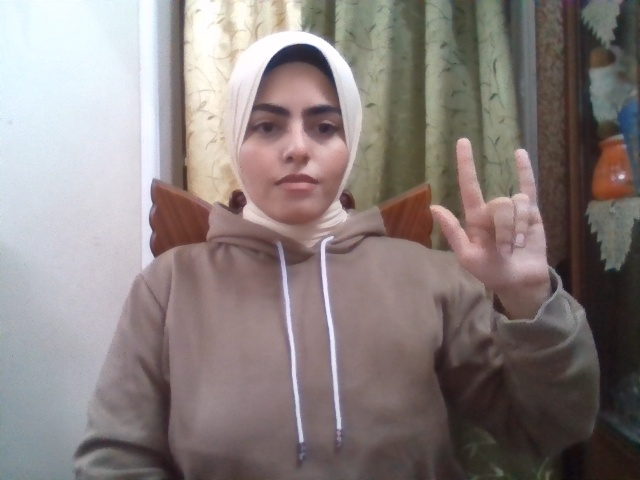iloveyou: (431, 138, 551, 296)
